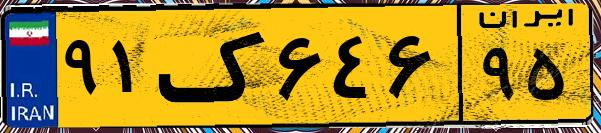1: (110, 28, 158, 98)
4: (330, 28, 385, 110)
5: (525, 38, 570, 115)
6: (270, 28, 330, 110), (385, 28, 445, 110)
9: (57, 26, 110, 100), (475, 38, 525, 113)
ک: (158, 12, 270, 120)
